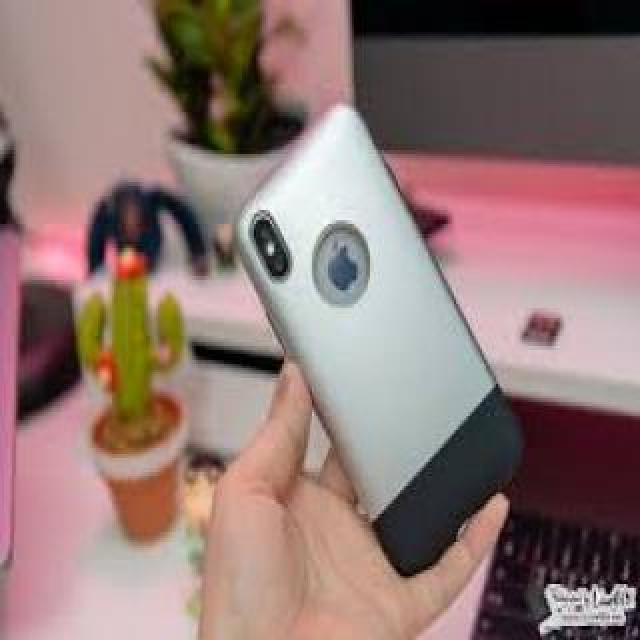smart phone: (219, 92, 550, 584)
